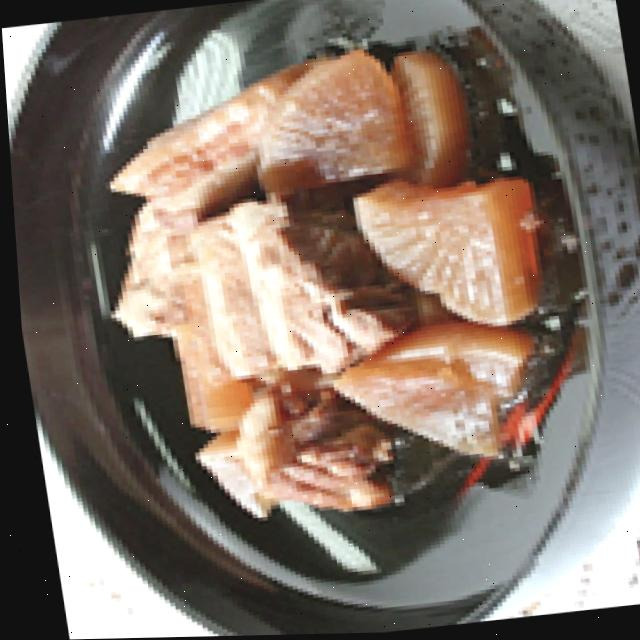猪肉菜式: (49, 20, 477, 582)
